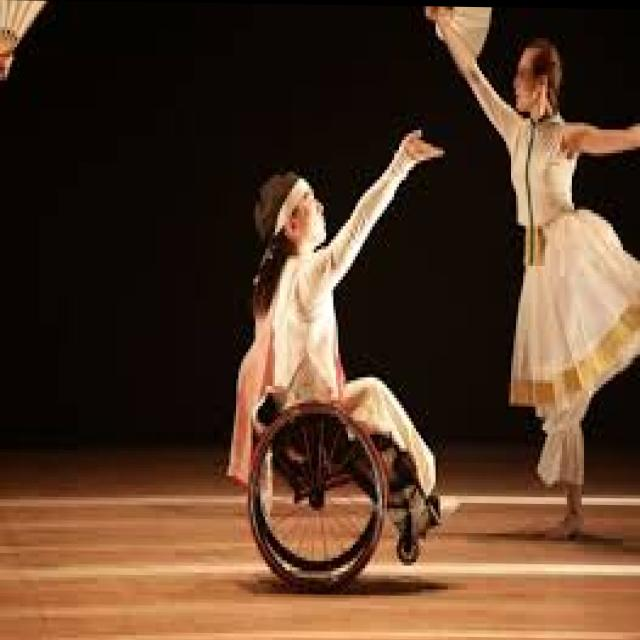wheelchair: (234, 123, 462, 586)
